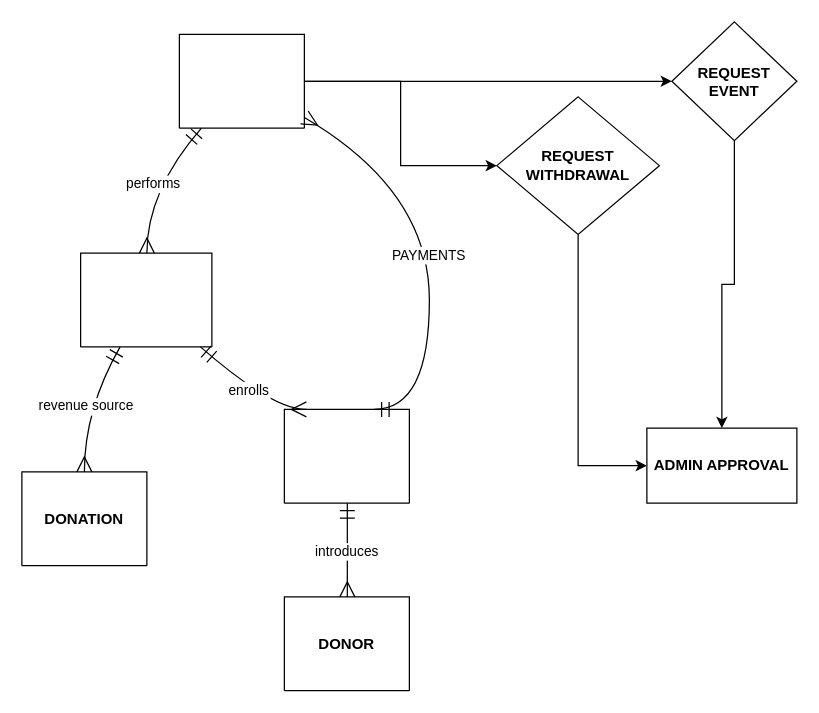
Some shapes in this 819 by 713 pixel diagram are drawn without their labels. Each missing label, with the centre of its shape:
APPLICATION: pixel 346 455
TRANSACTION: pixel 145 299
USER: pixel 241 80
